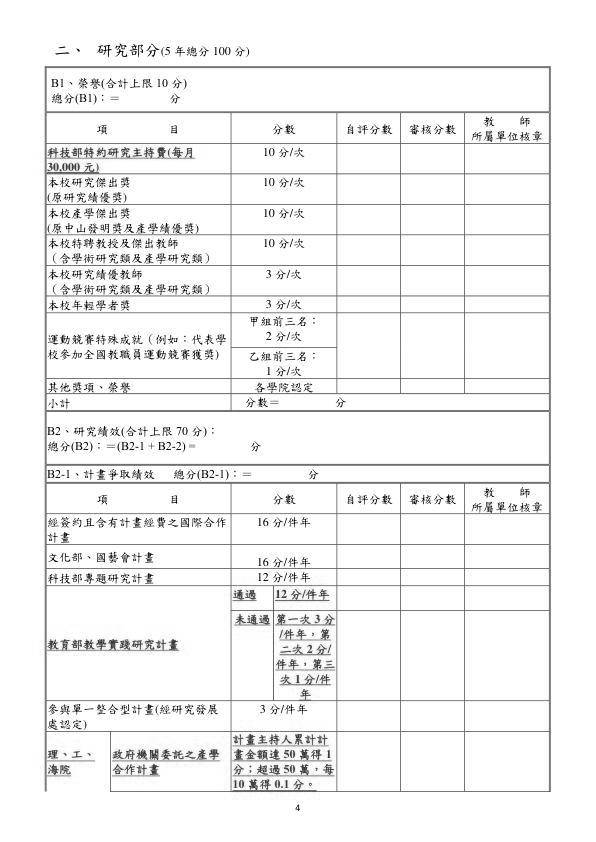table: (42, 61, 555, 794)
text: (55, 41, 250, 60)
